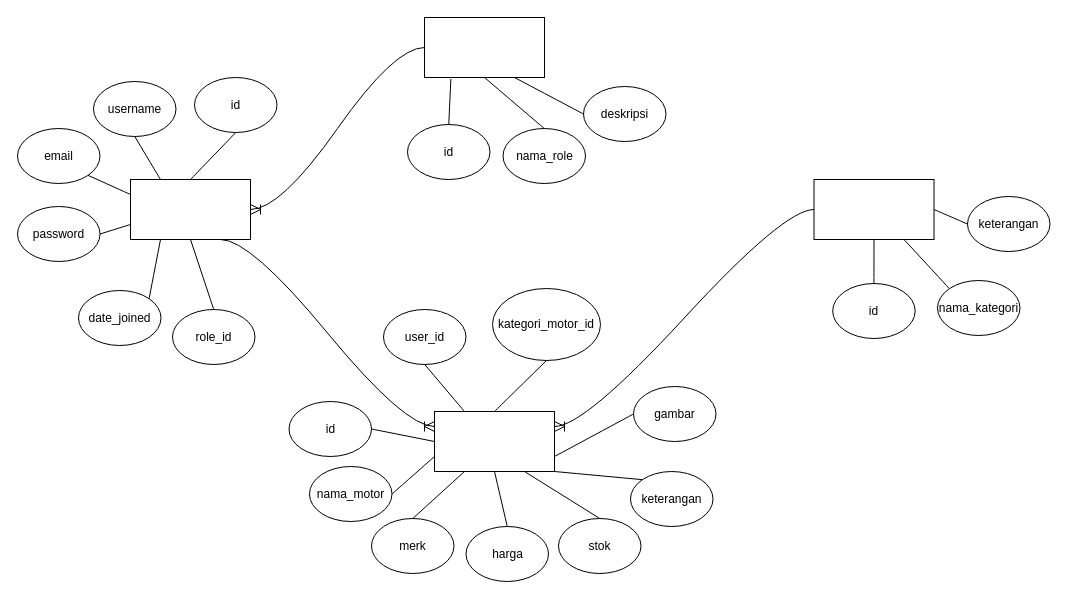
Some shapes in this 1068 by 599 pixel diagram are drawn without their labels. Each missing label, with the centre of its shape:
"kategori_motor" belongs at (x=873, y=209).
"motor" belongs at (x=494, y=441).
"role" belongs at (x=484, y=47).
"user" belongs at (x=190, y=209).
